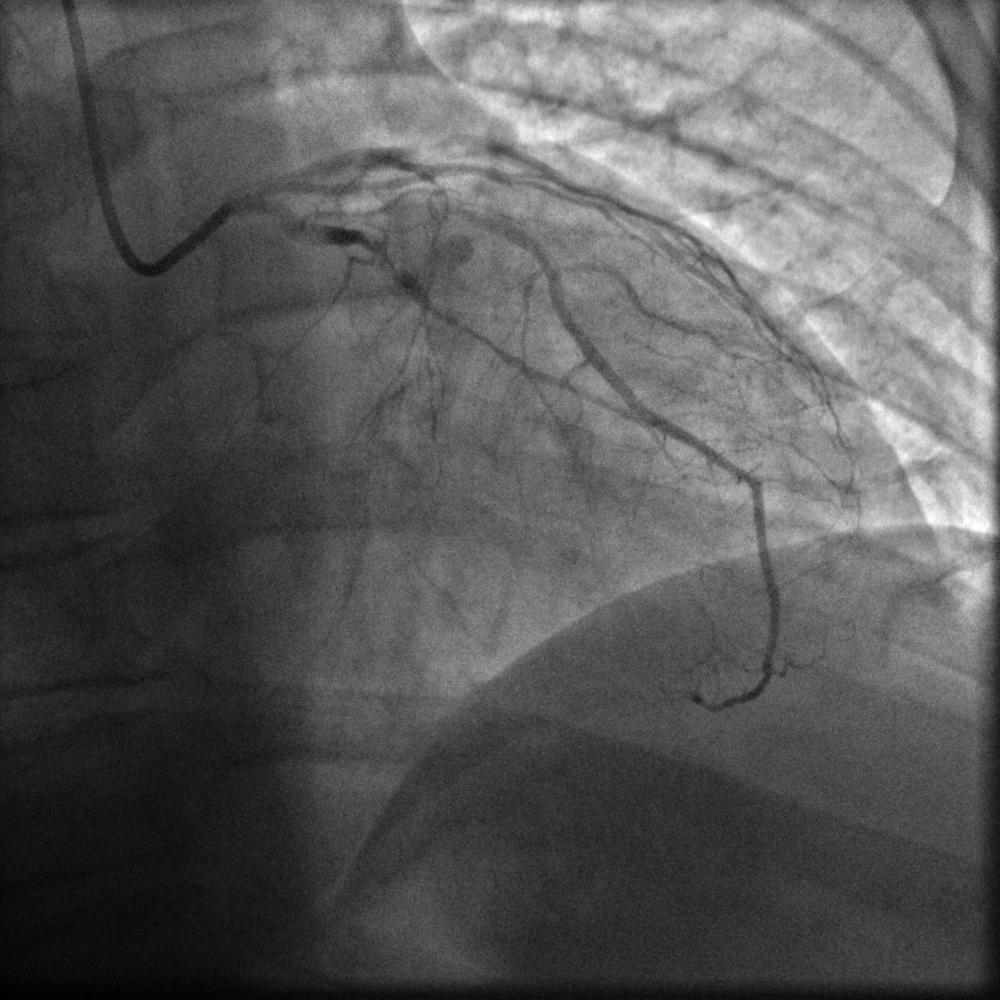Stenosis: (349, 228, 408, 290)
